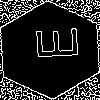E: (25, 25, 79, 62)
